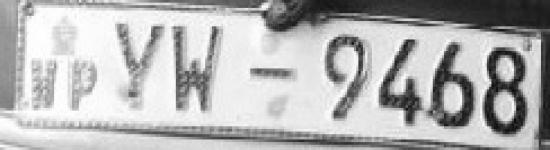-: (249, 60, 299, 88)
4: (381, 28, 427, 132)
6: (427, 37, 481, 137)
8: (480, 42, 532, 145)
9: (315, 28, 377, 125)
P: (63, 50, 103, 115)
W: (170, 20, 231, 118), (27, 50, 61, 114)
Y: (110, 15, 168, 118)
